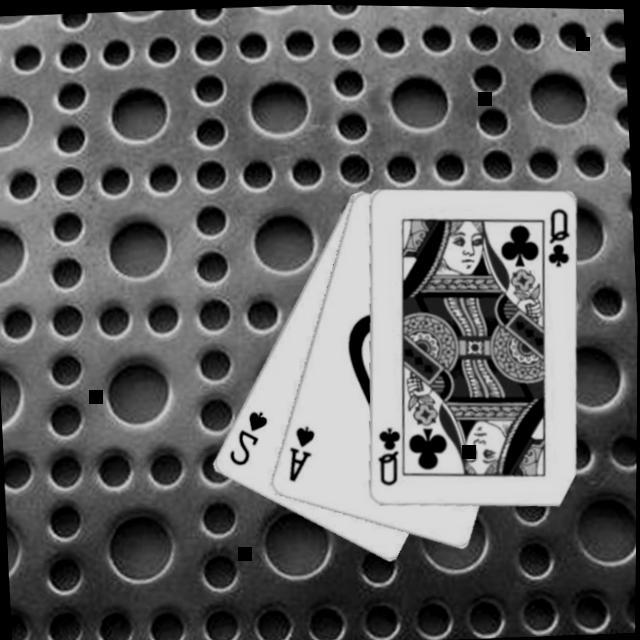2S: (226, 405, 275, 468)
AS: (285, 421, 322, 484)
QC: (376, 422, 407, 487), (544, 204, 574, 268)
